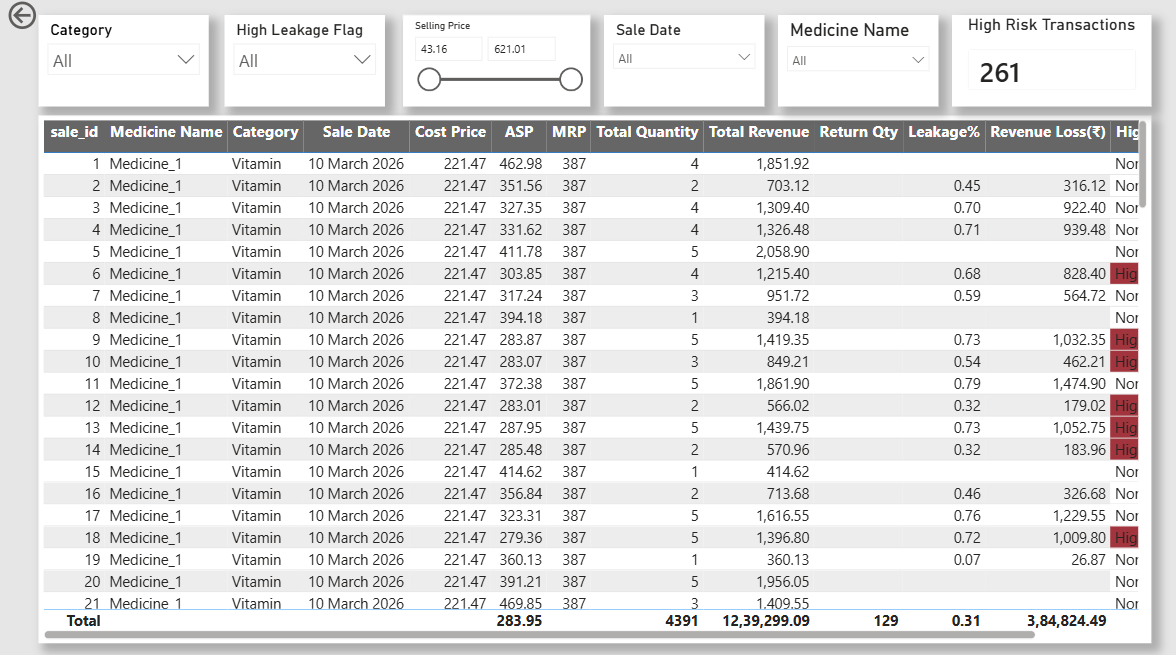

The dashboard page shown, as its layout file describes it:
{"tool":"powerbi","page":{"name":"Transaction Drilldown","canvas":[1280,720],"ordinal":1},"visuals":[{"type":"slicer","fields":{"Values":["products.category"]},"box":[37.9,19.7,186.2,99.9],"z":0},{"type":"slicer","fields":{"Values":["sales.High Leakage Flag"]},"box":[240.8,19.7,175.6,99.9],"z":1000},{"type":"slicer","fields":{"Values":["sales.selling_price"]},"box":[436.1,19.7,204.4,99.9],"z":2000},{"type":"slicer","fields":{"Values":["sales.sale_date"]},"box":[655.7,19.7,175.6,99.9],"z":3000},{"type":"tableEx","fields":{"Values":["sales.sale_id","products.medicine_name","products.category","sales.sale_date","products.cost_price","Avg(sales.selling_price)","products.mrp","sales.Total Quantity","sales.Total Revenue","Sum(returns.quantity_returned)","sales.Leakage%","sales.Revenue Loss(₹)"]},"box":[37.9,128.7,1215.9,576.9],"z":4000},{"type":"actionButton","box":[0,0,100,40],"z":5000},{"type":"slicer","fields":{"Values":["products.medicine_name"]},"box":[846.4,19.7,175.6,99.9],"z":6000},{"type":"cardVisual","title":"High Risk Transactions","fields":{"Data":["sales.High Risk Transactions"]},"box":[1035.7,19.7,218,99.9],"z":7000}]}

Visuals, with their boxes in screenshot pixels (x1, y1, x2, y2), scaled from the page's 1280x720 canvas onto the 1176x655 screenshot:
slicer - products.category: (x1=35, y1=18, x2=206, y2=109)
slicer - sales.High Leakage Flag: (x1=221, y1=18, x2=383, y2=109)
slicer - sales.selling_price: (x1=401, y1=18, x2=588, y2=109)
slicer - sales.sale_date: (x1=602, y1=18, x2=764, y2=109)
tableEx - sales.sale_id x products.medicine_name: (x1=35, y1=117, x2=1152, y2=642)
actionButton: (x1=0, y1=0, x2=92, y2=36)
slicer - products.medicine_name: (x1=778, y1=18, x2=939, y2=109)
"High Risk Transactions" cardVisual: (x1=952, y1=18, x2=1152, y2=109)
